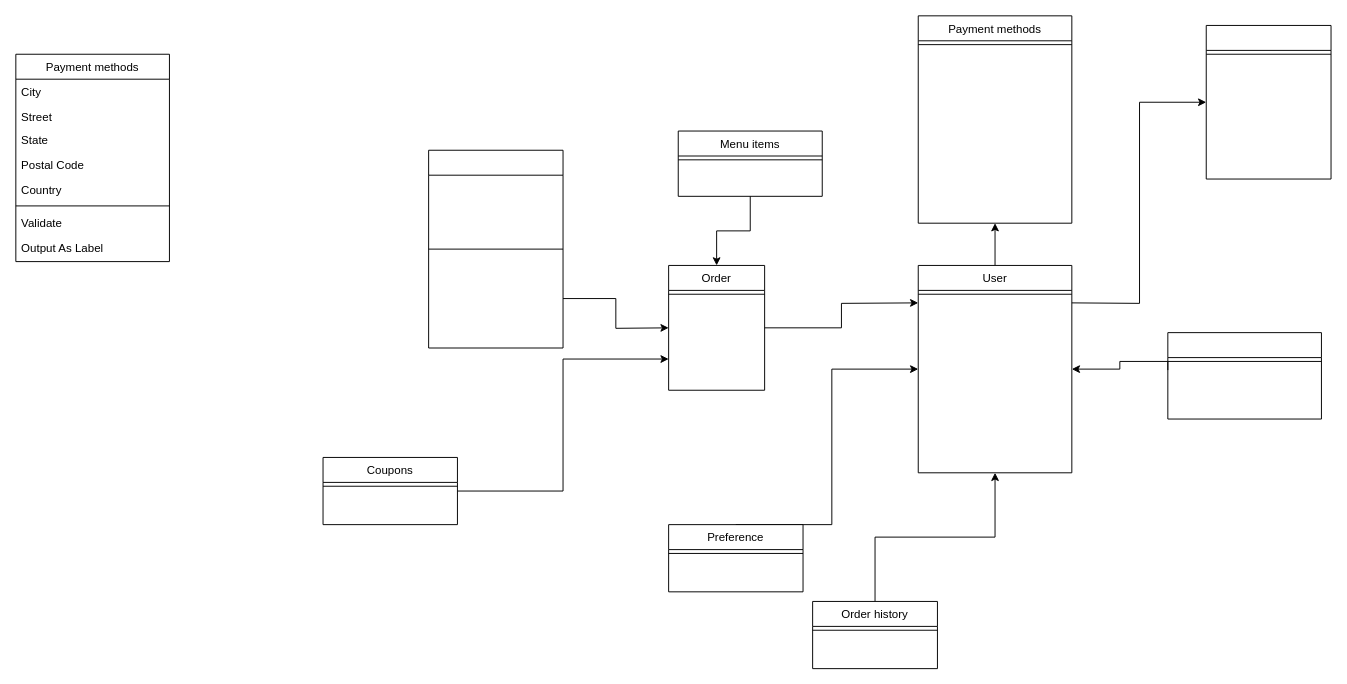
This 1347x684 diagram has some shape labels left out. The box of each missing label's shape, as (x1, y1, x2, y2) in pixels:
Location: (428, 149, 563, 348)
Loyalty program: (1167, 332, 1321, 419)
User reviews: (1205, 24, 1331, 179)
